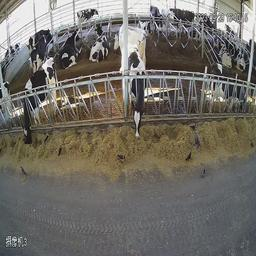cow: (21, 57, 55, 146), (126, 46, 149, 145), (211, 61, 248, 117), (31, 30, 54, 68), (61, 30, 81, 68), (92, 24, 109, 63), (74, 5, 101, 25), (213, 38, 232, 66), (163, 6, 176, 34), (150, 5, 162, 30), (142, 20, 151, 36)
